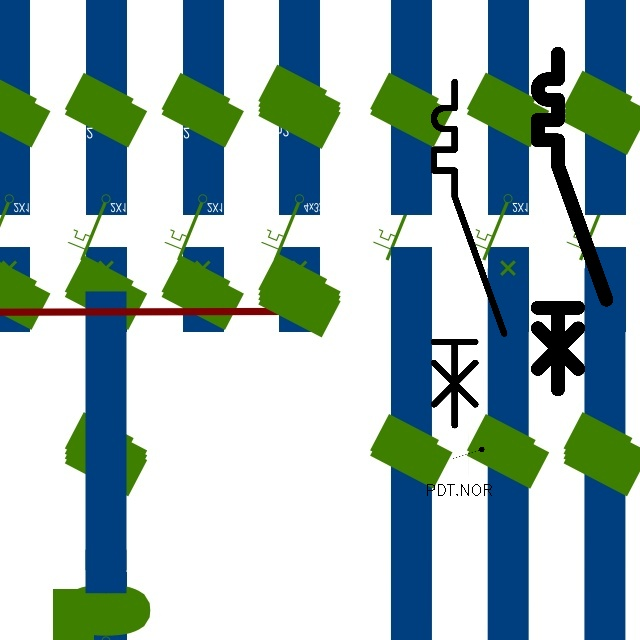interruptor_termomagnetico: (425, 73, 513, 434), (529, 45, 615, 398)
